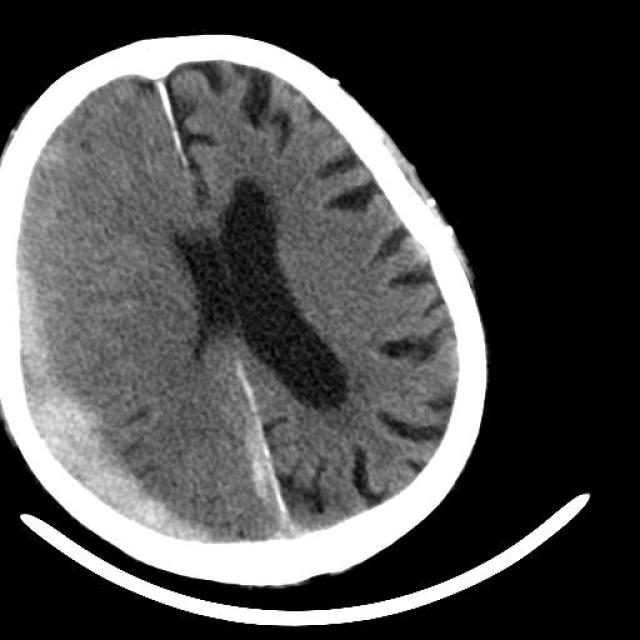Intraparenchymal: (229, 402, 295, 526)
Subdural: (5, 235, 239, 573)
